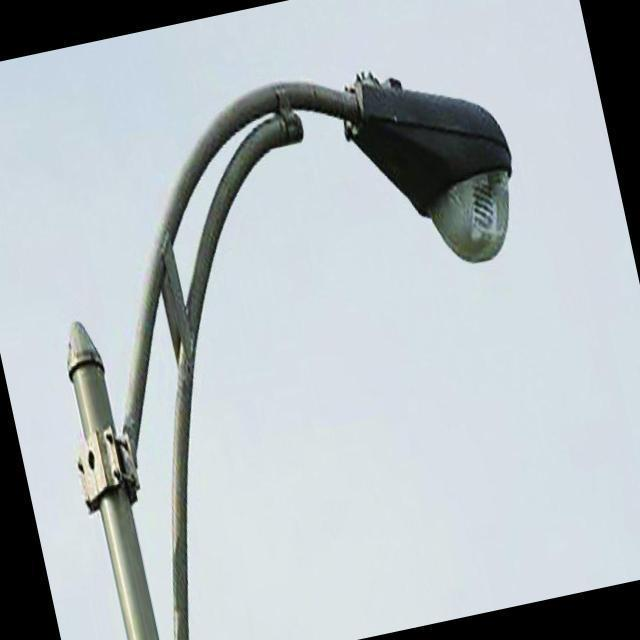off: (252, 18, 546, 300)
